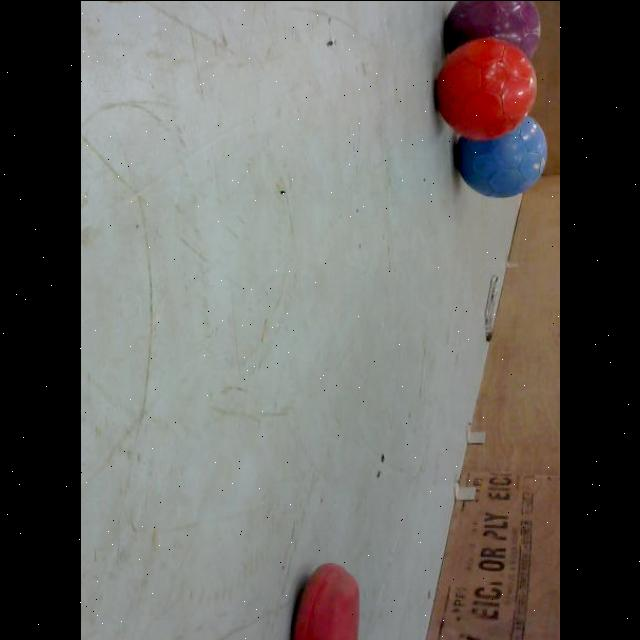B: (457, 110, 548, 198)
P: (444, 0, 542, 72)
R: (434, 36, 538, 140)
